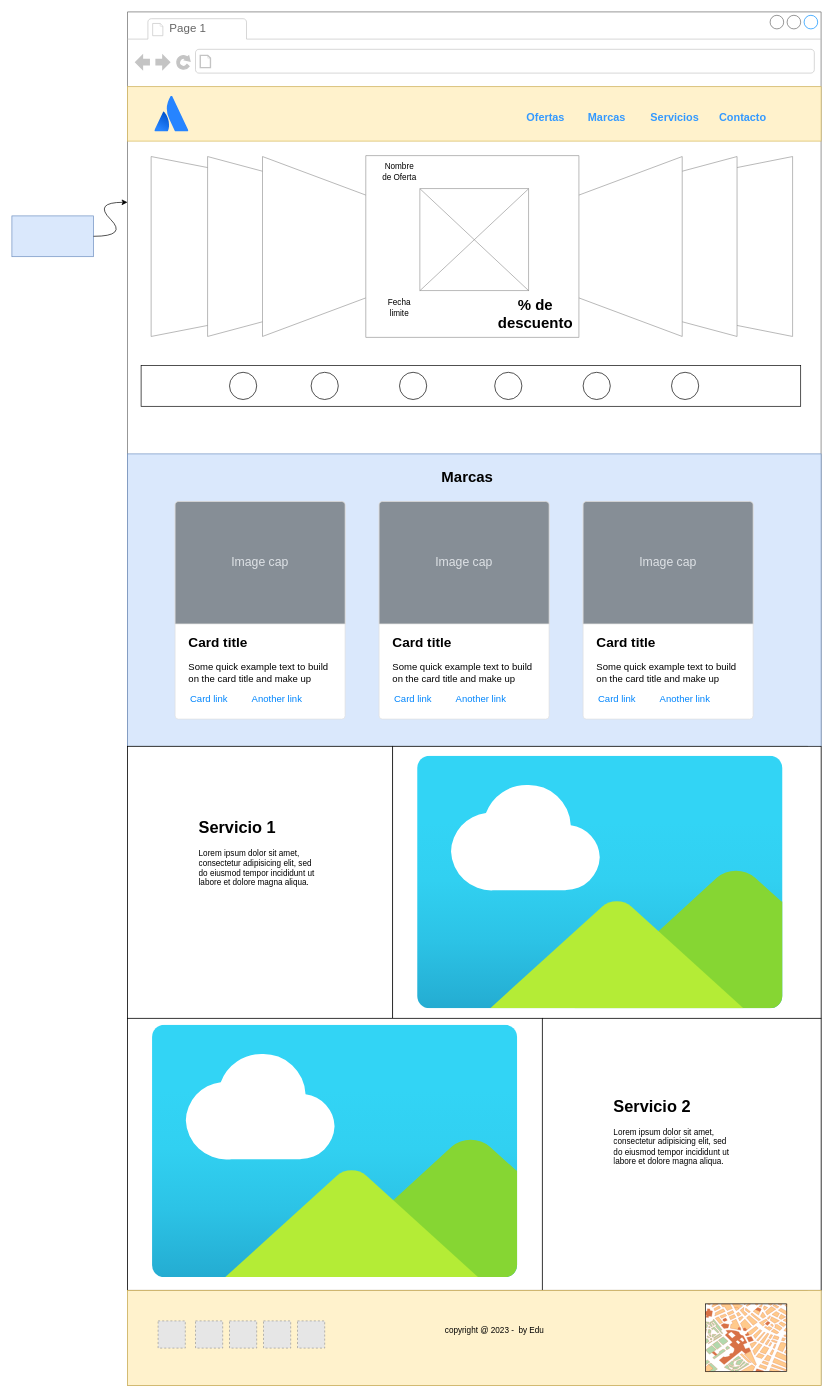
This 833x1397 diagram has some shape labels left out. Grey dashed boxes stand in for pictures. The shapes that lost their labels are listed below. From the top down, each one's box as (x1, y1, x2, y2) in pixels, then its label:
(215, 52, 386, 70): https://www.draw.io
(11, 215, 94, 257): Esta seccion va a tratar de mostrar las ofertas de interes general
